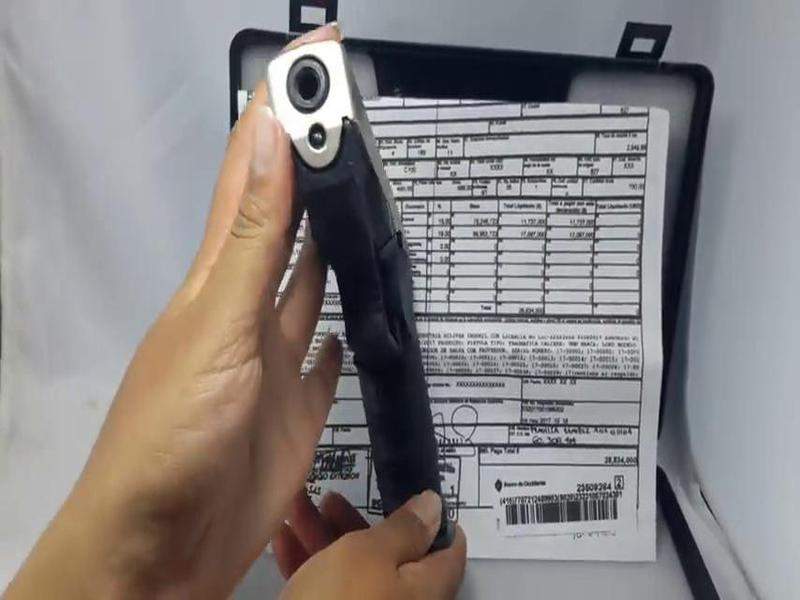Pistola: (208, 44, 478, 546)
